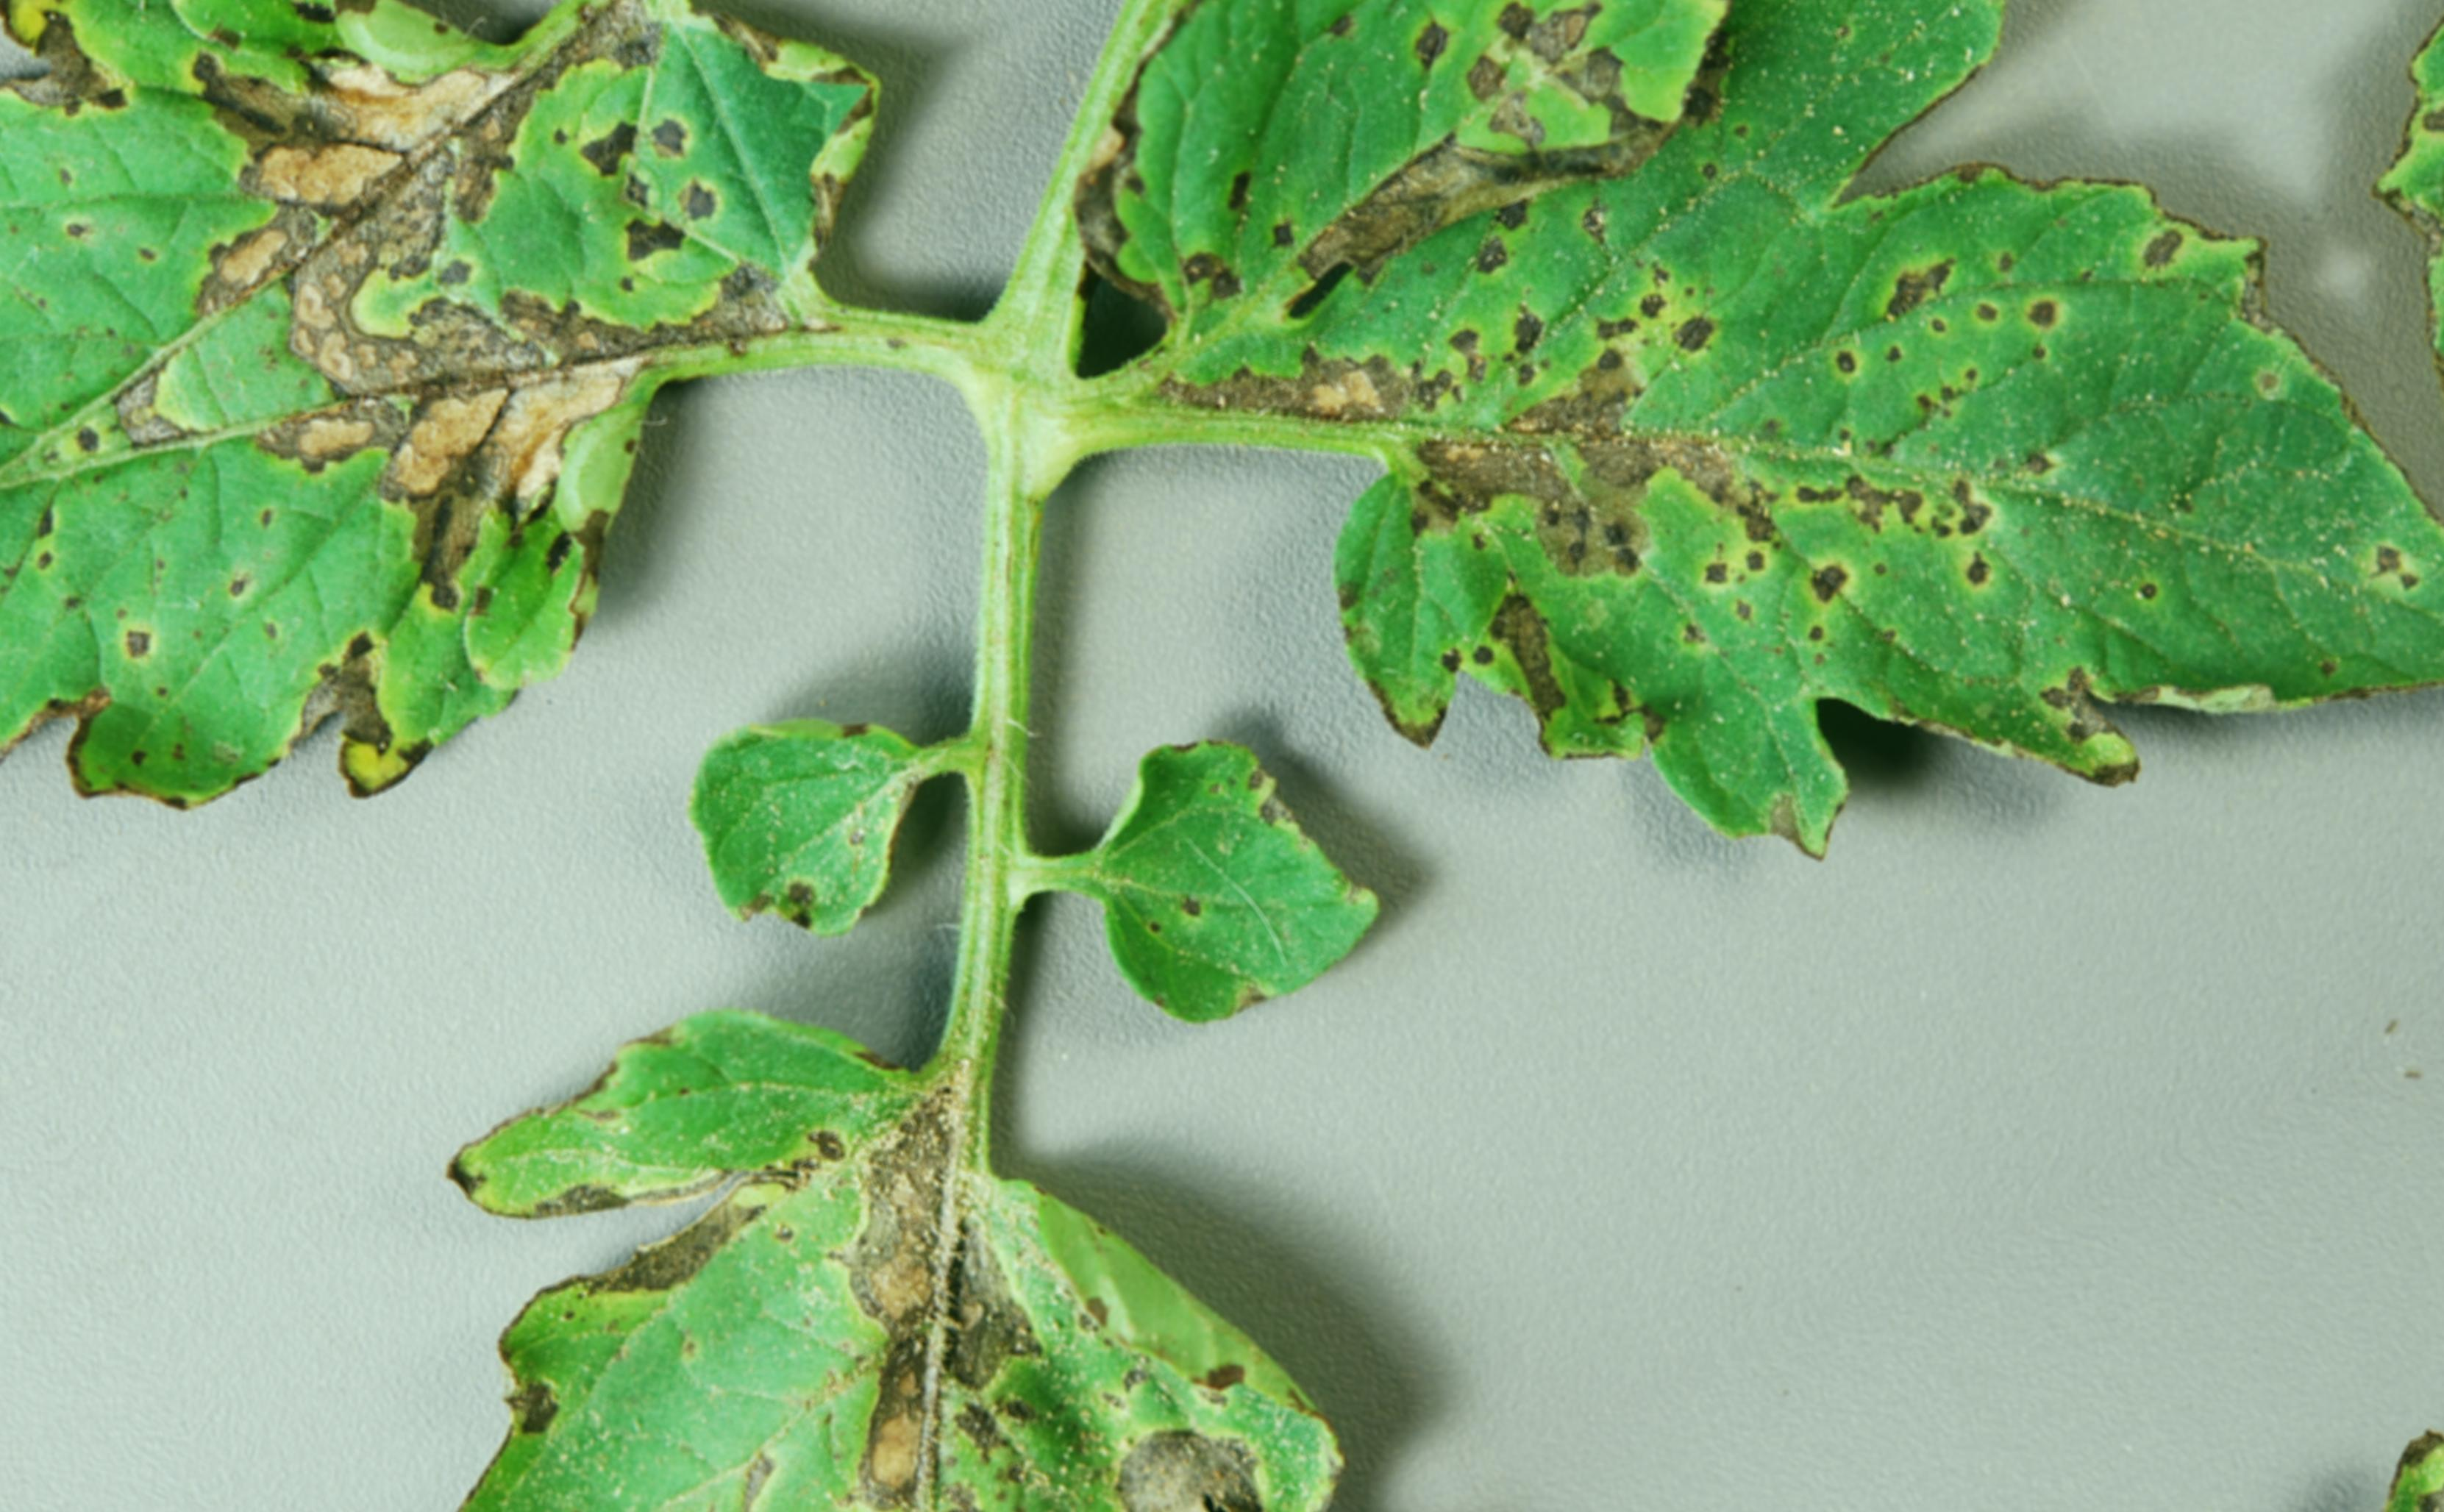Tomato Septoria leaf spot: (1077, 0, 2444, 1241), (89, 658, 1407, 1512), (0, 58, 1133, 1014), (981, 0, 1840, 450), (999, 658, 1503, 1124)
